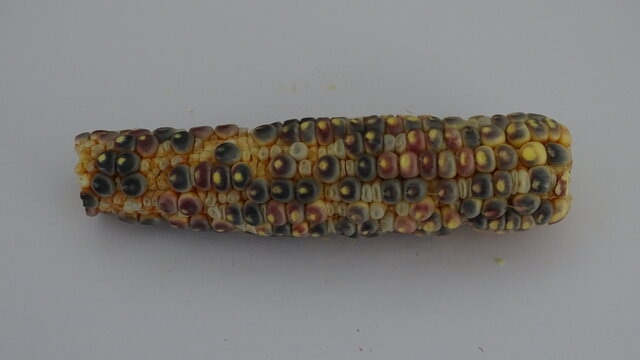corn: (454, 145, 477, 178)
